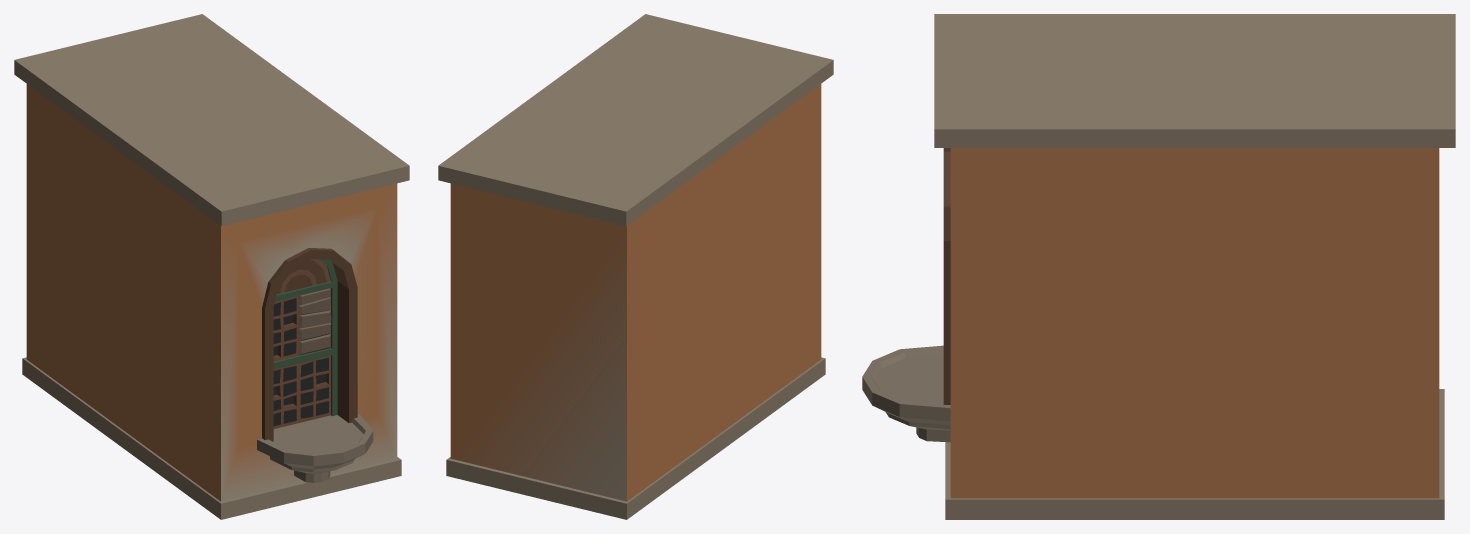
Rendered from SM_Bld_Cuba_Room_Short_01.glb.
3 renders of one model, left to right at view 1: azimuth 30°, elevation 25°; view 2: azimuth 150°, elevation 25°; view 3: azimuth 270°, elevation 25°, orthographic. The views are drawn at different scales.
Visible parts, largest first — view 1: SM_Bld_Cuba_Room_Short_01; view 2: SM_Bld_Cuba_Room_Short_01; view 3: SM_Bld_Cuba_Room_Short_01.
Boxes of the visible parts, left/top/right/bottom form: SM_Bld_Cuba_Room_Short_01: left=14, top=14, right=409, bottom=519; SM_Bld_Cuba_Room_Short_01: left=438, top=14, right=833, bottom=519; SM_Bld_Cuba_Room_Short_01: left=862, top=14, right=1455, bottom=519.
Bounding box in the file's own units: 0.021 × 0.0333 × 0.0456.
